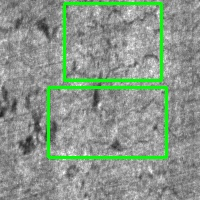crazing: (48, 87, 166, 157), (64, 3, 161, 80)
